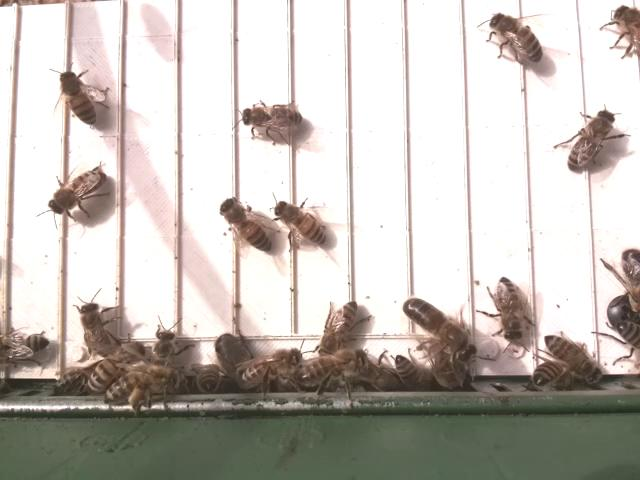Drone: (402, 293, 480, 365)
Worker: (216, 193, 273, 256), (487, 9, 545, 69), (565, 107, 616, 174), (46, 166, 109, 218), (542, 331, 602, 383), (315, 297, 363, 359), (273, 199, 328, 250), (56, 67, 100, 128), (78, 297, 117, 364), (493, 273, 527, 346), (239, 99, 308, 134)
